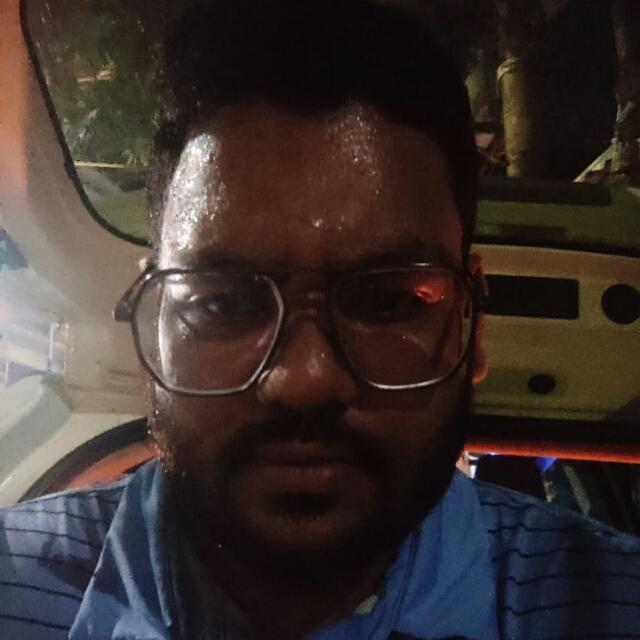Angry: (110, 99, 500, 562)
